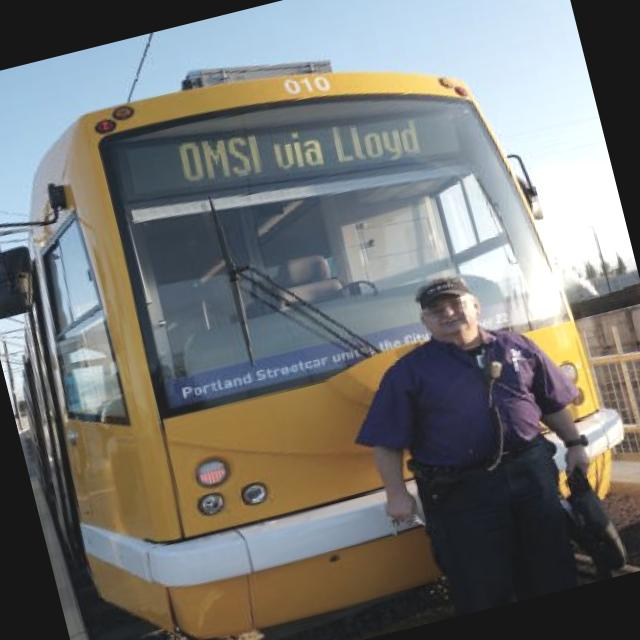Person: (322, 238, 612, 615)
